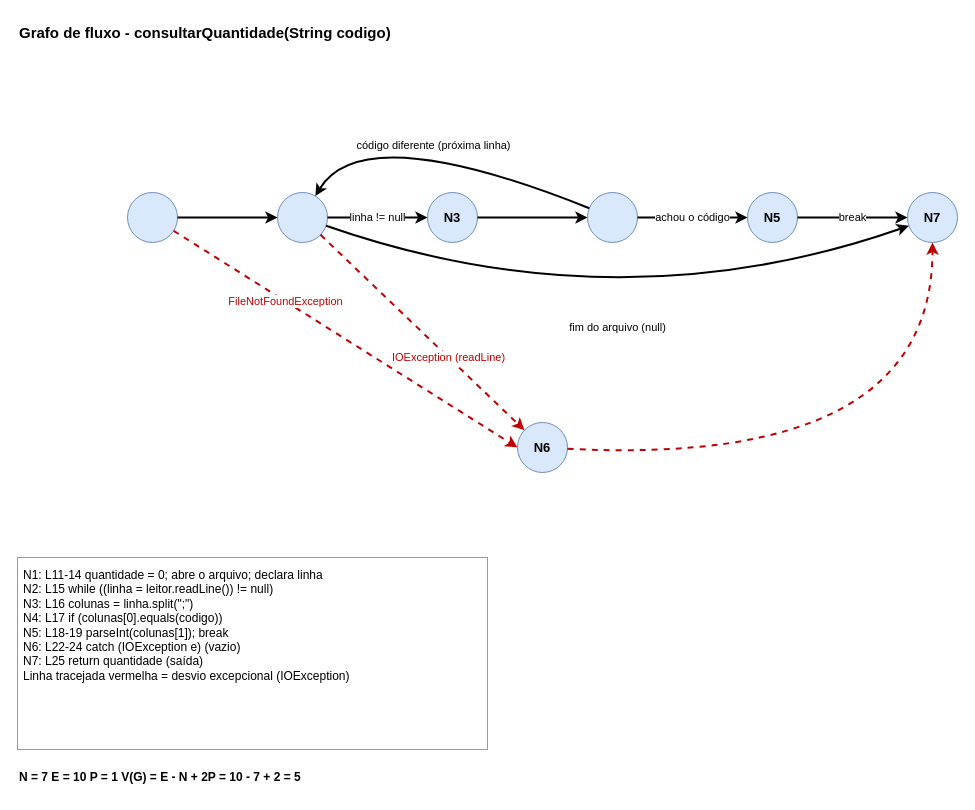
Some shapes in this 975 by 810 pixel diagram are drawn without their labels. Here are the shapes that lost their labels. From the top down, the box of each, then its label:
(126, 192, 178, 242): N1
(276, 192, 328, 242): N2
(586, 192, 638, 242): N4
